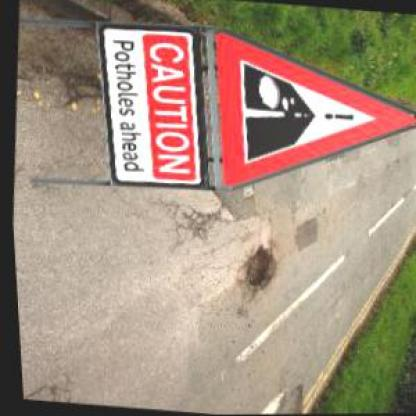pothole: (231, 242, 278, 296)
